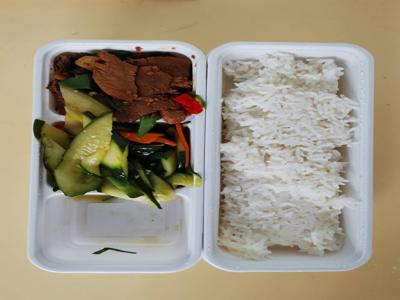rice: (225, 54, 357, 259)
